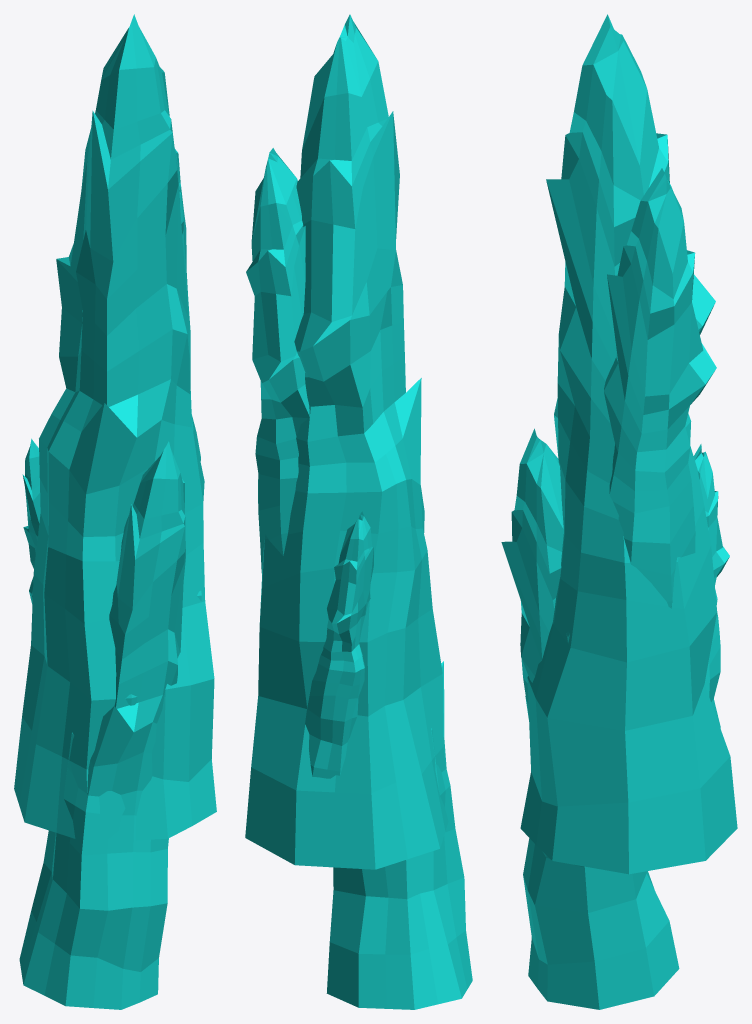
The model's file is Ispatt.fbx.
3 views of the same model, side by side, from view 1: azimuth 30°, elevation 25°; view 2: azimuth 150°, elevation 25°; view 3: azimuth 270°, elevation 25° (orthographic). The views are drawn at different scales.
Visible parts, largest first — view 1: Cylinder.003; view 2: Cylinder.003; view 3: Cylinder.003.
Part boxes in pixels (x1,y1,x2,y2): Cylinder.003: (14,14,216,1009); Cylinder.003: (245,14,472,1009); Cylinder.003: (501,14,737,1009).
Size of the model in its own units: 212 by 1006 by 218.
